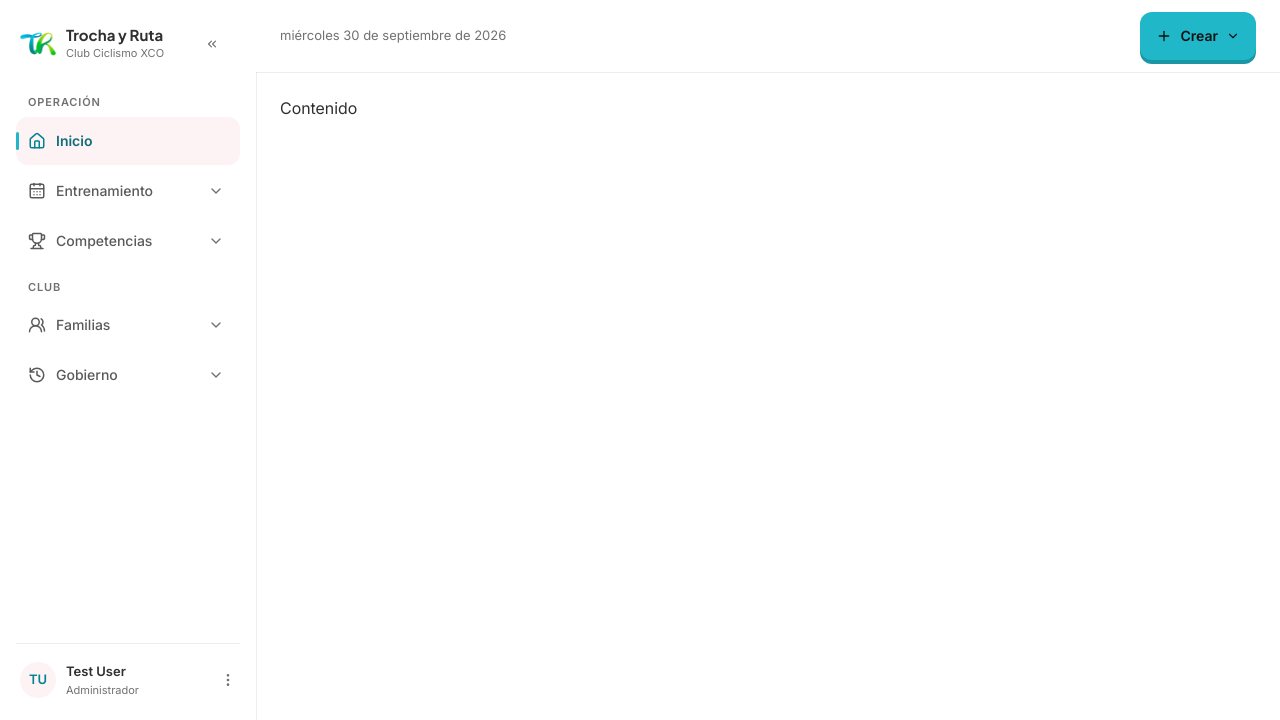
Scenario: AppShell › acciones de header — UserMenu + QuickCreate (coach/admin) › admin: el quick-create NO ofrece 'Nuevo atleta'
Click the button with test id "quick-create-trigger".
click(1198, 36)  # box x1=1140 y1=12 x2=1256 y2=60
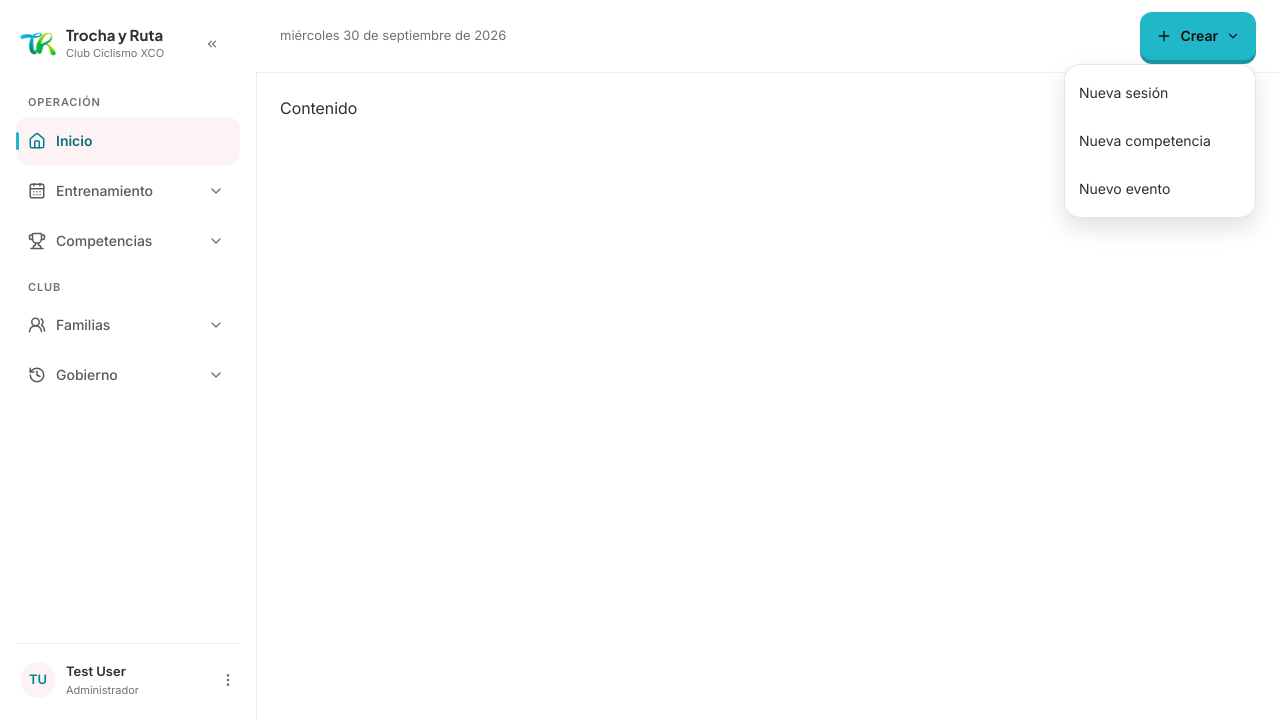
expect the menu item with test id "quick-create.session" is shown: met, box x1=1079 y1=84 x2=1168 y2=101
expect the menu item with test id "quick-create.competition" is shown: met, box x1=1079 y1=132 x2=1211 y2=149
expect the menu item with test id "quick-create.event" is shown: met, box x1=1079 y1=180 x2=1170 y2=197
